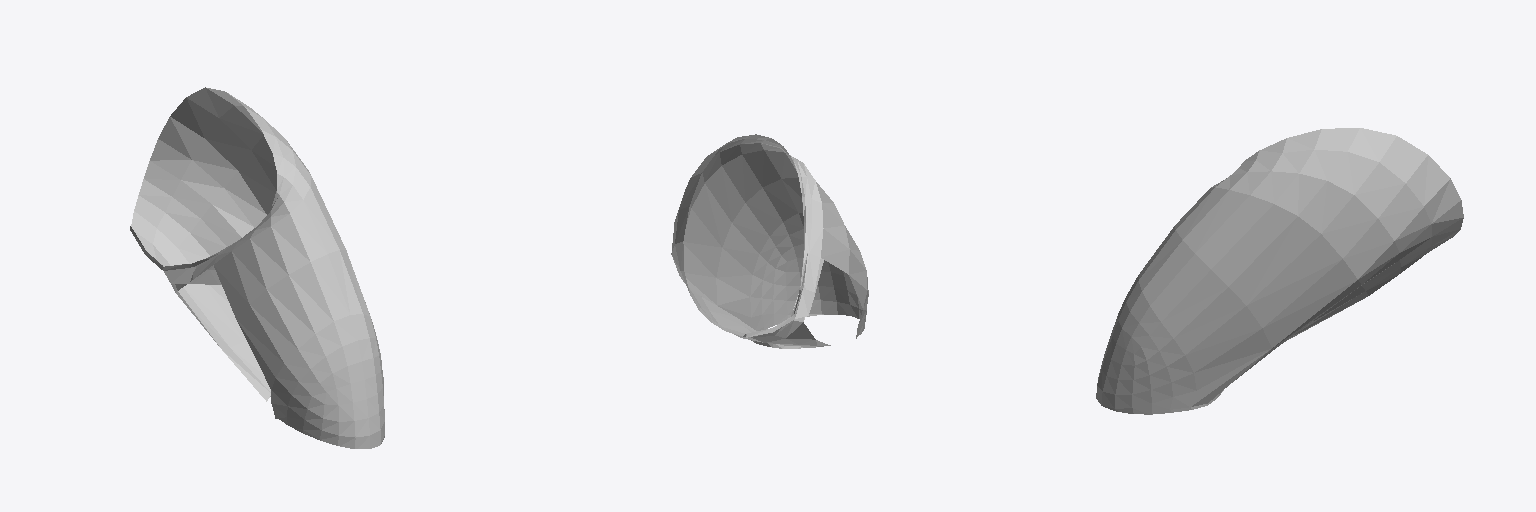
The model's file is cuisse_arriere_gauche.obj.
3 renders of one model, left to right at view 1: azimuth 30°, elevation 25°; view 2: azimuth 150°, elevation 25°; view 3: azimuth 270°, elevation 25°, orthographic.
Parts seen in each view (by area): view 1: Cube.002_Cube.001; view 2: Cube.002_Cube.001; view 3: Cube.002_Cube.001.
Boxes of the visible parts, x1,y1,x2,y2 form: Cube.002_Cube.001: [130, 87, 384, 448]; Cube.002_Cube.001: [671, 134, 868, 348]; Cube.002_Cube.001: [1096, 128, 1463, 414].
Bounding box in the file's own units: 0.8355 × 1.69 × 2.12.